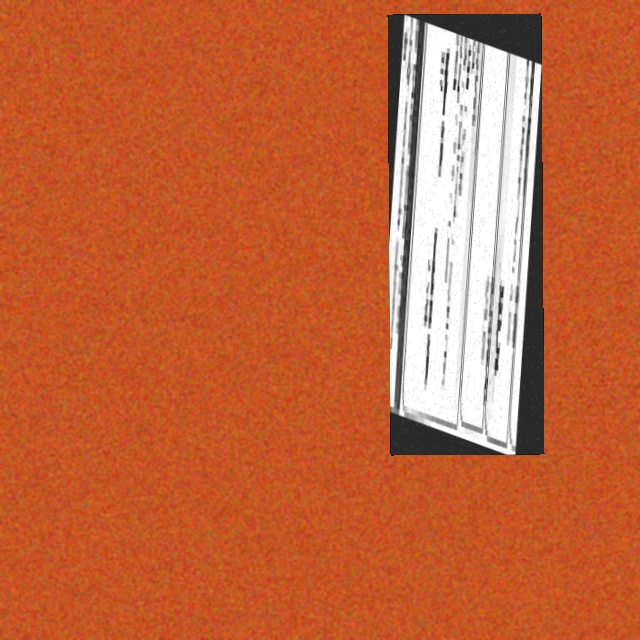electricity-bill: (387, 13, 545, 455)
